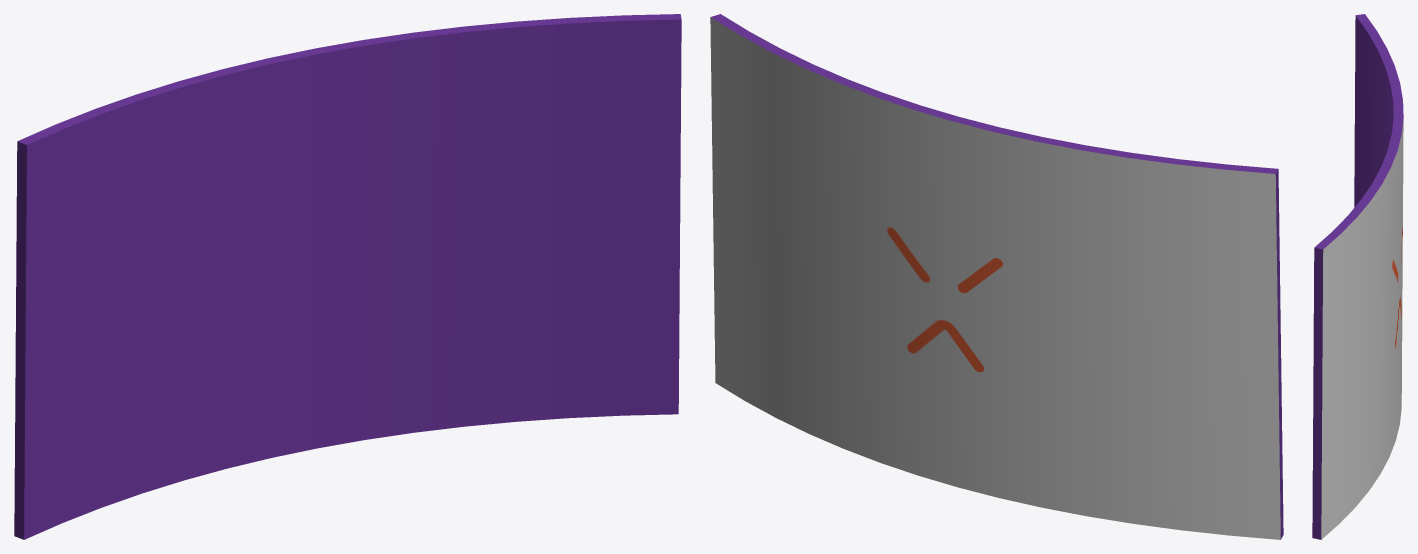
Rendered from Panel.fbx.
3 renders of one model, left to right at view 1: azimuth 30°, elevation 25°; view 2: azimuth 150°, elevation 25°; view 3: azimuth 270°, elevation 25°, orthographic. The views are drawn at different scales.
Parts seen in each view (by area): view 1: Panel; view 2: Panel; view 3: Panel.
Boxes of the visible parts, left/top/right/bottom form: Panel: left=14, top=14, right=681, bottom=539; Panel: left=710, top=14, right=1283, bottom=539; Panel: left=1312, top=14, right=1403, bottom=539.
Bounding box in the file's own units: 109 × 65.14 × 18.12.
